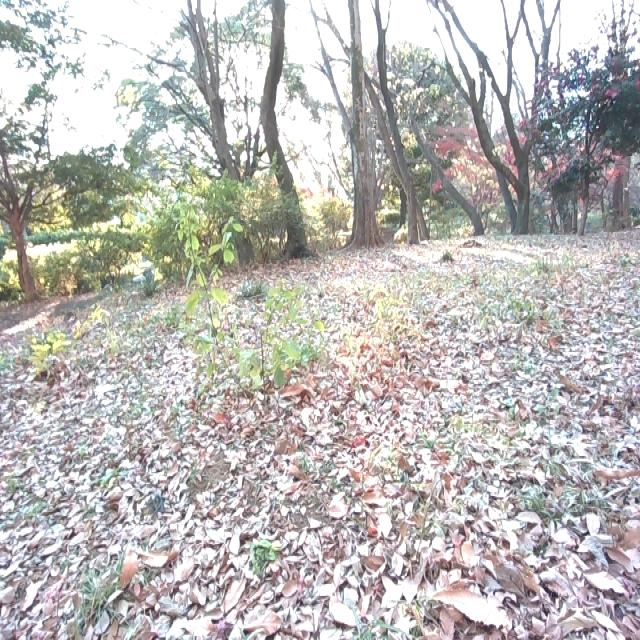bush: (172, 199, 324, 397), (138, 176, 344, 274)
tree: (435, 0, 567, 243), (325, 0, 436, 239), (307, 0, 389, 251), (170, 1, 260, 175), (0, 128, 79, 302), (266, 0, 319, 253), (408, 113, 487, 240), (604, 0, 640, 235), (576, 78, 608, 230)
